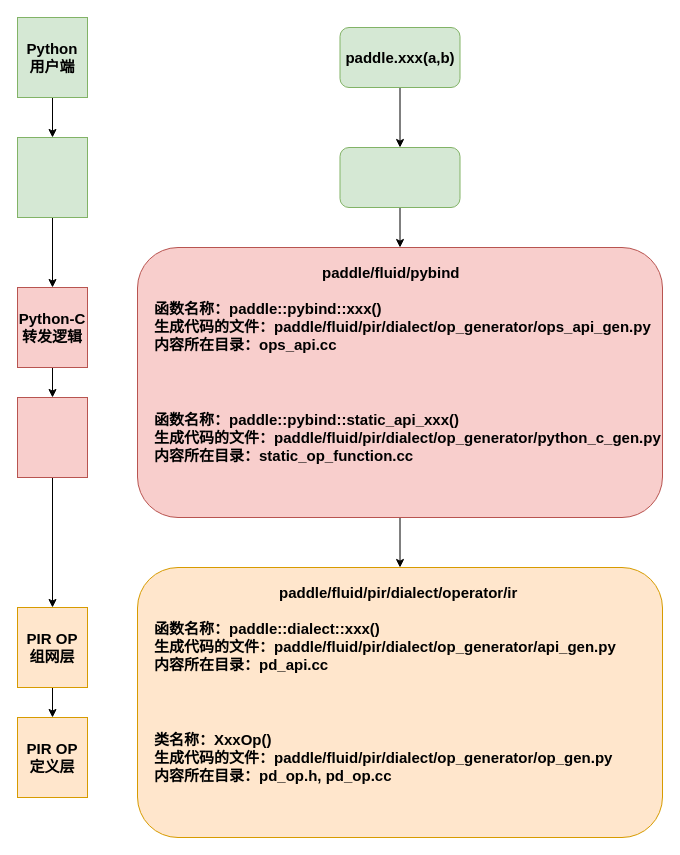
This 680x855 diagram has some shape labels left out. Here are the shapes that lost their labels. From the top down, the box of each, then its label:
(16, 136, 88, 218): Python 框架端
(339, 146, 460, 208): _C_ops.xxx()
(16, 396, 88, 478): Python-C 映射层
